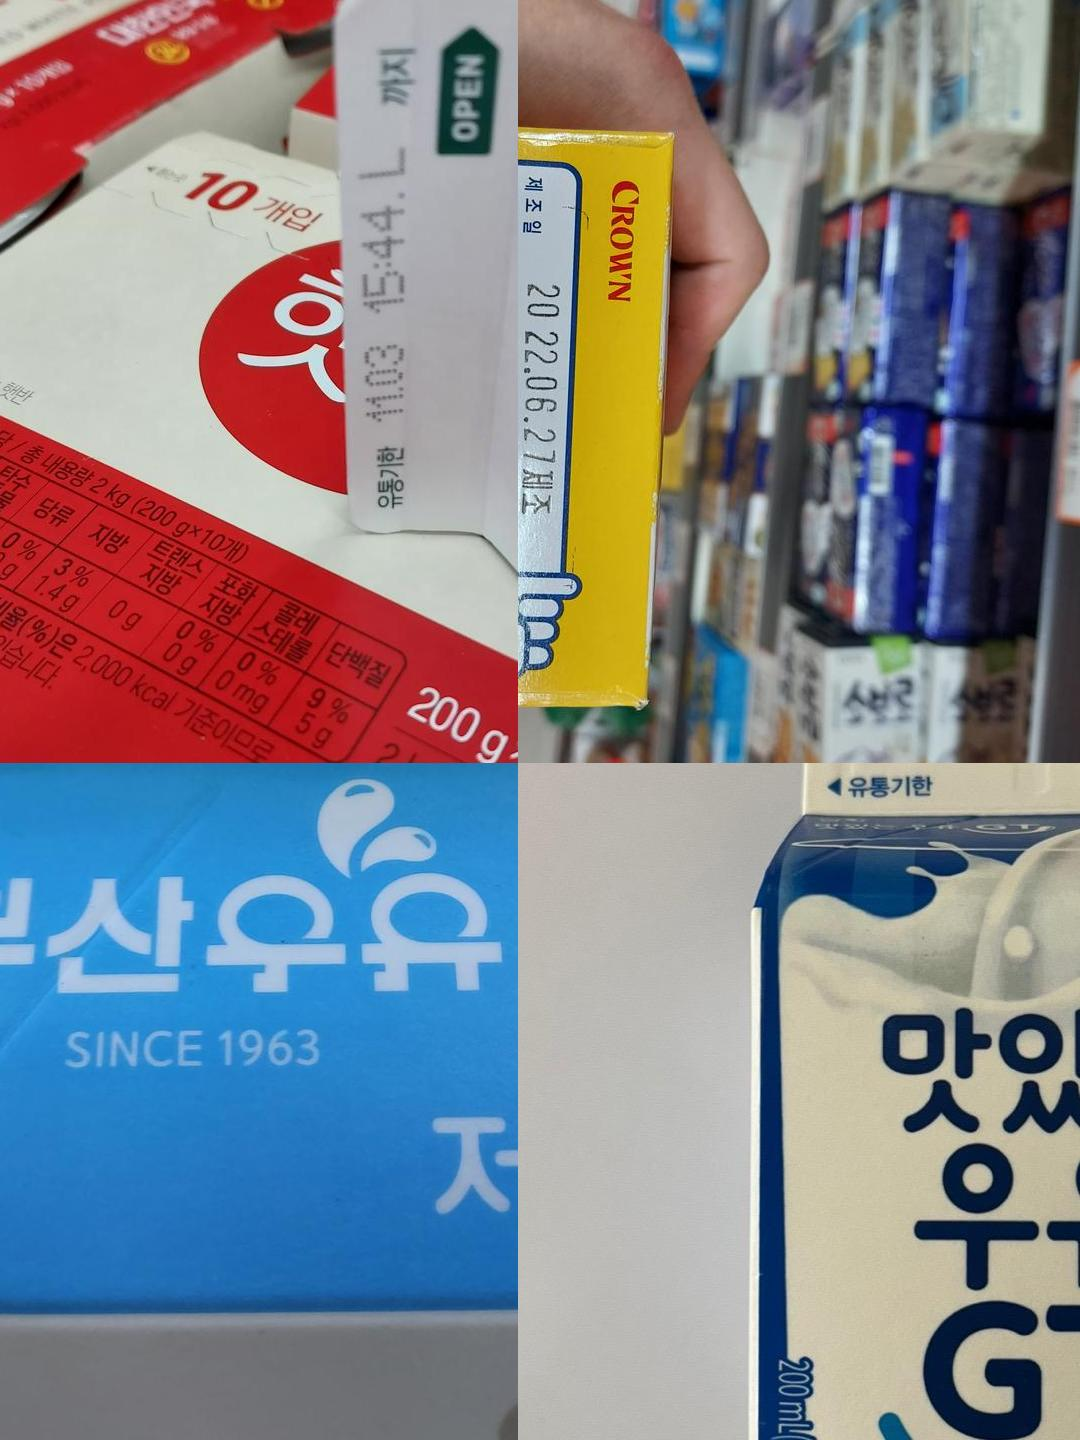milk: (333, 0, 509, 534), (0, 763, 518, 875), (800, 763, 1080, 817)
snack food: (518, 266, 568, 543)
